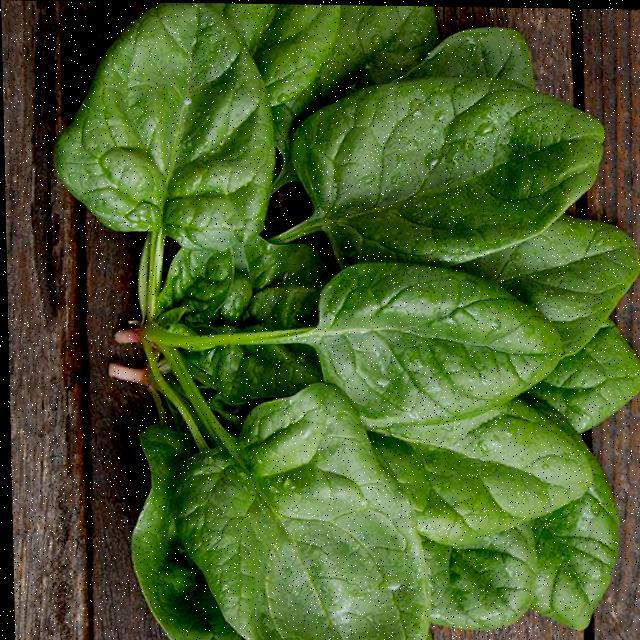Spinach: (46, 1, 640, 640)
